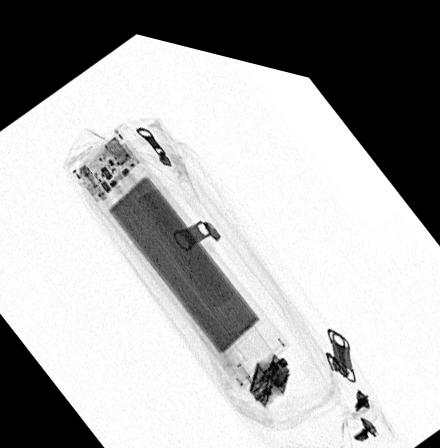Powerbank: (66, 117, 288, 379)
